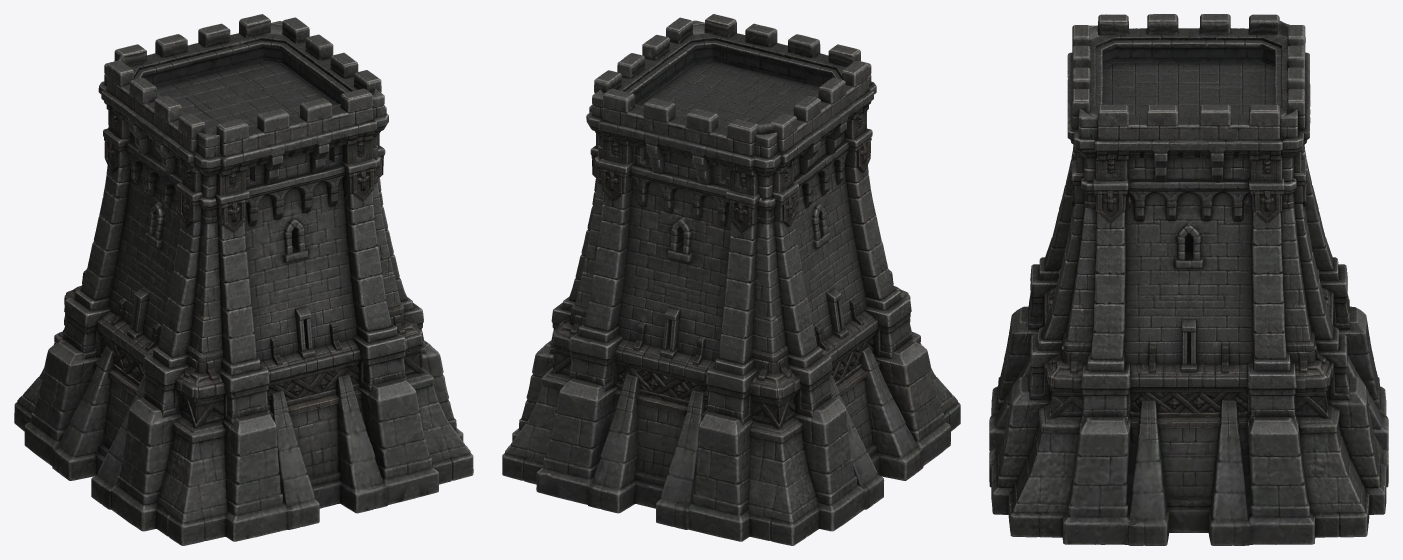
Rendered from Meshy_AI_A_single_standalone_m_0823050508_texture.glb.
3 views of the same model, side by side, from view 1: azimuth 30°, elevation 25°; view 2: azimuth 150°, elevation 25°; view 3: azimuth 270°, elevation 25° (orthographic). The views are drawn at different scales.
Parts seen in each view (by area): view 1: mesh_node; view 2: mesh_node; view 3: mesh_node.
Boxes of the visible parts, bbox=[...] form: mesh_node: bbox=[14, 14, 473, 545]; mesh_node: bbox=[502, 14, 960, 545]; mesh_node: bbox=[989, 14, 1388, 545].
Size of the model in its own units: 1.72 by 1.9 by 1.72.
Materials: 1 (1 with a texture image).
